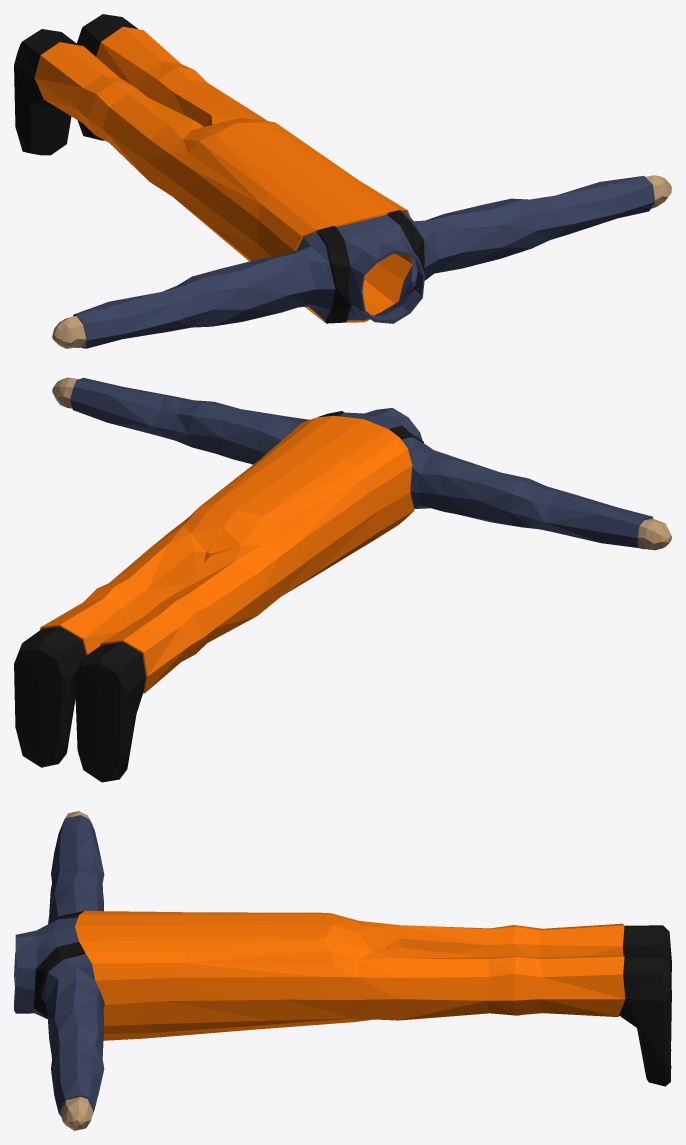
File: FishingClothes1.glb
3 renders of one model, top to bottom at view 1: azimuth 30°, elevation 25°; view 2: azimuth 150°, elevation 25°; view 3: azimuth 270°, elevation 25°, orthographic.
Visible parts, largest first — view 1: FishingClothes1; view 2: FishingClothes1; view 3: FishingClothes1.
Part boxes in pixels (left/top/right/bottom): FishingClothes1: left=14, top=14, right=671, bottom=348; FishingClothes1: left=14, top=377, right=671, bottom=782; FishingClothes1: left=14, top=811, right=671, bottom=1130.
Bounding box in the file's own units: 1.21 × 0.271 × 1.11.
1 material, 1 textured.
